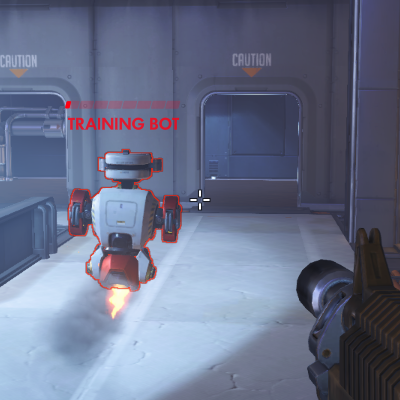hpbar: (64, 100, 181, 110)
